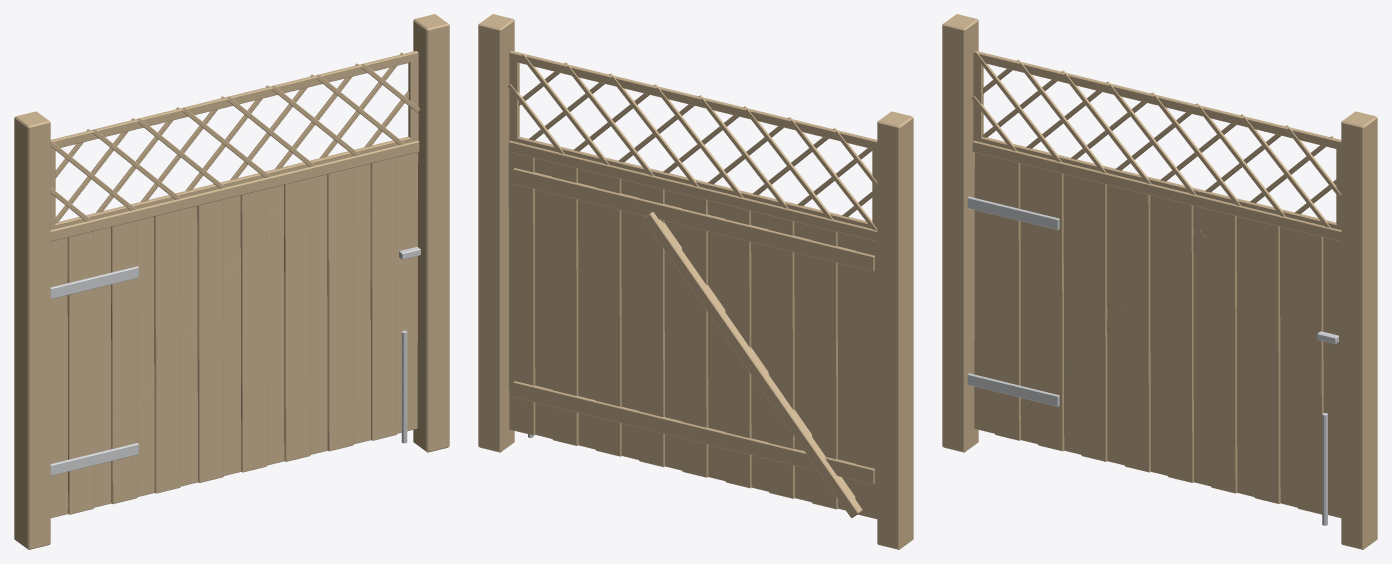
The model's file is garden-centre-and-florist-sales-area-fence-gate-bb084a4a__17714.glb.
The picture shows the model from 3 angles, left to right: view 1: azimuth 30°, elevation 25°; view 2: azimuth 150°, elevation 25°; view 3: azimuth 330°, elevation 25°; orthographic projection.
Parts seen in each view (by area): view 1: sales-gate (×2), sales-area-fence-gate; view 2: sales-gate, sales-area-fence-gate; view 3: sales-gate (×2), sales-area-fence-gate.
Part boxes in pixels (x1,y1,x2,y2): sales-gate (×2): (50, 51, 420, 517); sales-area-fence-gate: (14, 14, 449, 549); sales-gate: (507, 51, 877, 519); sales-area-fence-gate: (478, 14, 913, 549); sales-gate (×2): (967, 51, 1341, 525); sales-area-fence-gate: (942, 14, 1377, 549).
Bounding box in the file's own units: 2 × 1.92 × 0.1199.
